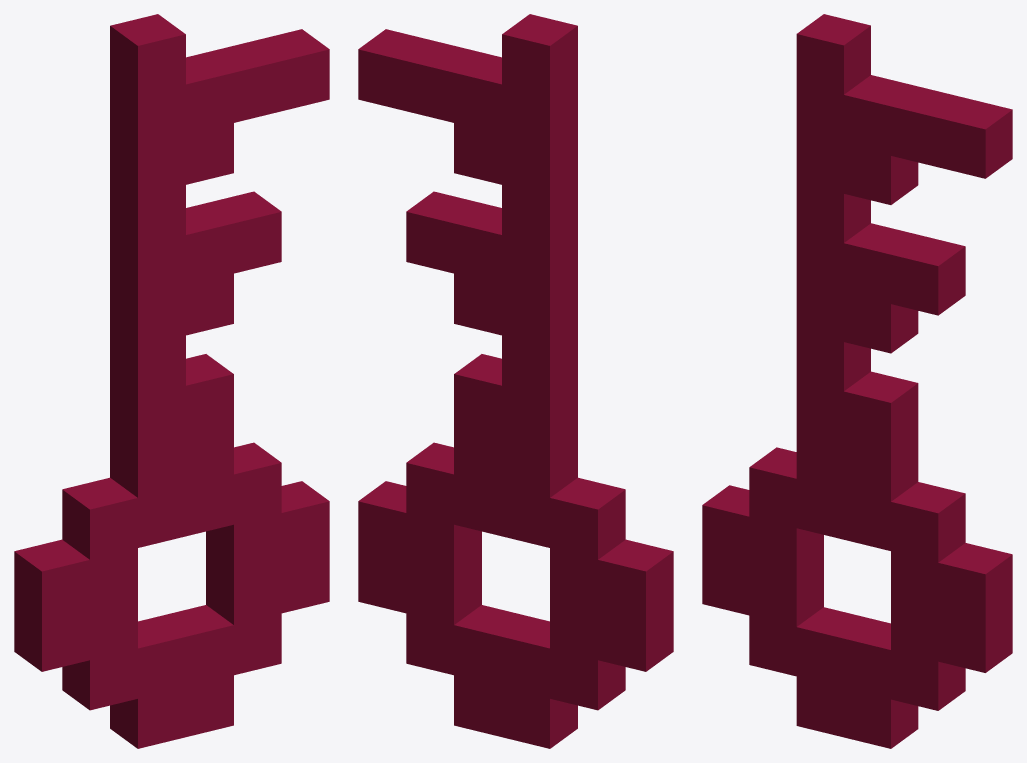
Rendered from Key 2.glb.
3 renders of one model, left to right at view 1: azimuth 30°, elevation 25°; view 2: azimuth 150°, elevation 25°; view 3: azimuth 330°, elevation 25°, orthographic.
Parts seen in each view (by area): view 1: generated(Clone); view 2: generated(Clone); view 3: generated(Clone).
Part boxes in pixels (<box>): generated(Clone): <box>14,14,329,748</box>; generated(Clone): <box>358,14,673,748</box>; generated(Clone): <box>702,14,1012,748</box>.
Size of the model in its own units: 6 by 14 by 1.
Materials: 1 (1 with a texture image).
